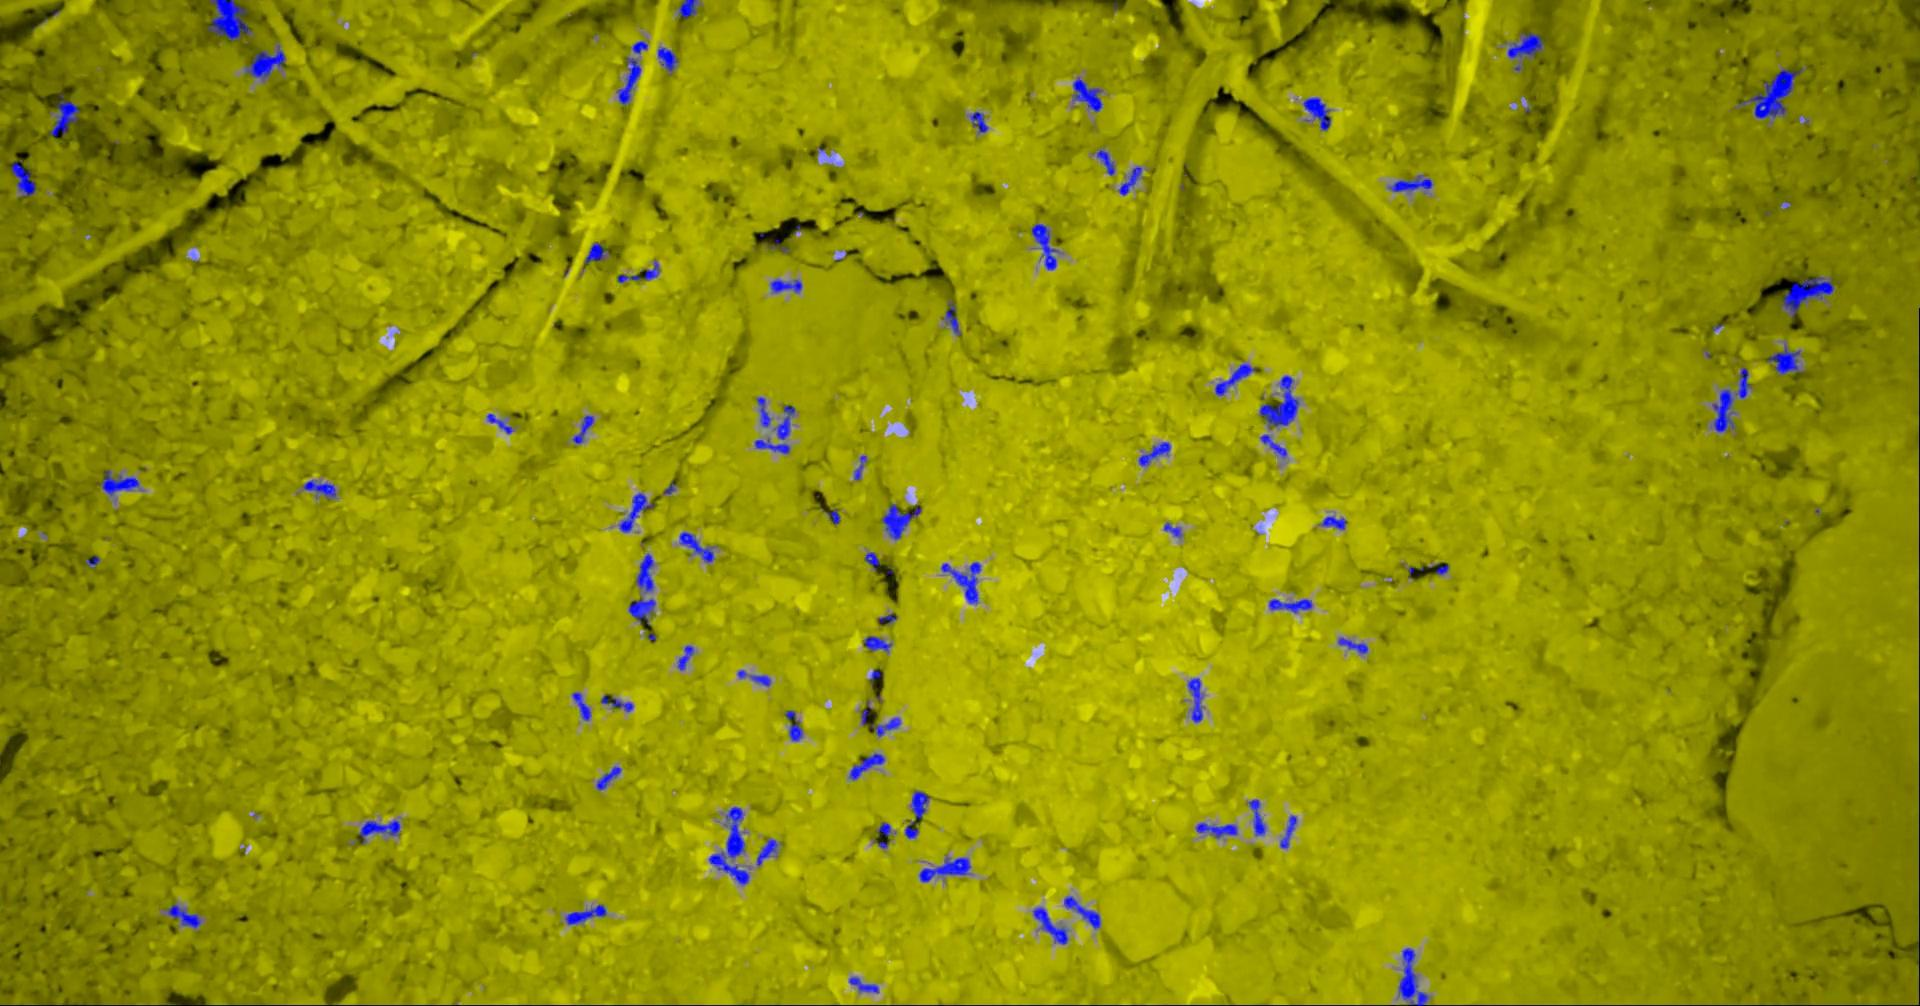ant: (710, 807, 750, 884), (1714, 367, 1752, 431), (1783, 276, 1835, 318), (1261, 375, 1302, 428), (756, 404, 797, 453), (1399, 948, 1430, 1005), (210, 0, 253, 39), (942, 561, 982, 603), (620, 492, 655, 532), (883, 503, 922, 539), (246, 44, 286, 79), (50, 93, 81, 135), (1034, 907, 1069, 944), (1217, 363, 1257, 395), (1032, 224, 1060, 269), (919, 857, 971, 882), (905, 790, 931, 838), (1065, 895, 1102, 929), (618, 57, 643, 104), (681, 531, 716, 561), (358, 819, 401, 843), (1509, 32, 1545, 58), (102, 470, 140, 495), (1074, 77, 1103, 111), (1769, 344, 1802, 373), (11, 159, 37, 196), (850, 753, 886, 779), (618, 260, 662, 282), (1305, 97, 1332, 130), (169, 903, 202, 927), (568, 904, 608, 923), (1140, 441, 1172, 465), (637, 553, 655, 592), (1390, 174, 1432, 191), (1197, 822, 1239, 838), (943, 300, 963, 335), (630, 598, 657, 624), (1189, 677, 1204, 721), (1120, 166, 1143, 196), (305, 479, 337, 499), (573, 415, 596, 443), (1250, 799, 1267, 835), (598, 766, 623, 790), (1270, 598, 1313, 612), (602, 694, 635, 711), (1262, 434, 1288, 457), (871, 716, 902, 735), (786, 709, 804, 741), (488, 413, 514, 433), (1281, 815, 1298, 847), (659, 46, 679, 71), (758, 840, 778, 865), (1338, 636, 1369, 653), (739, 669, 772, 685), (850, 976, 880, 992), (574, 692, 592, 720), (585, 243, 610, 263), (1098, 149, 1116, 175), (865, 636, 893, 652), (758, 396, 772, 426), (678, 645, 695, 669), (772, 279, 803, 292), (971, 111, 989, 132), (1323, 516, 1349, 528), (866, 551, 881, 572), (855, 455, 867, 479), (770, 238, 791, 251), (681, 0, 698, 17), (1164, 522, 1183, 537), (862, 700, 874, 725), (1430, 561, 1450, 574), (879, 822, 897, 836), (632, 39, 649, 53), (827, 509, 841, 525), (879, 612, 898, 622)
